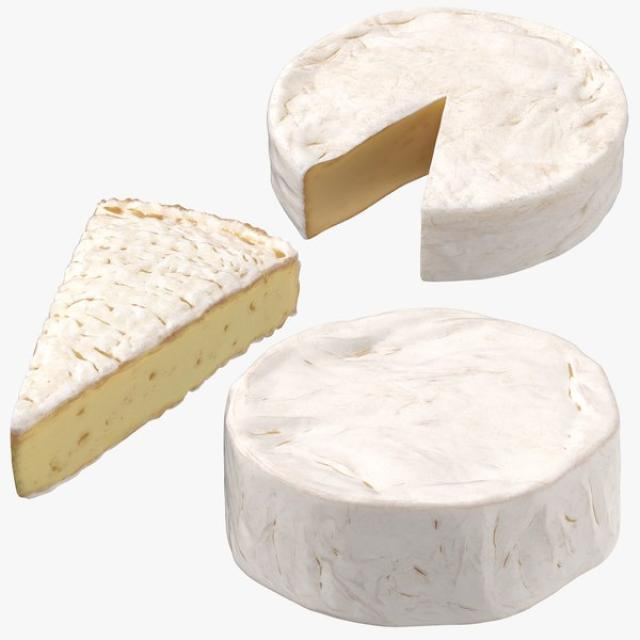Cheese: (230, 303, 630, 625), (266, 0, 636, 285), (15, 184, 291, 530)
